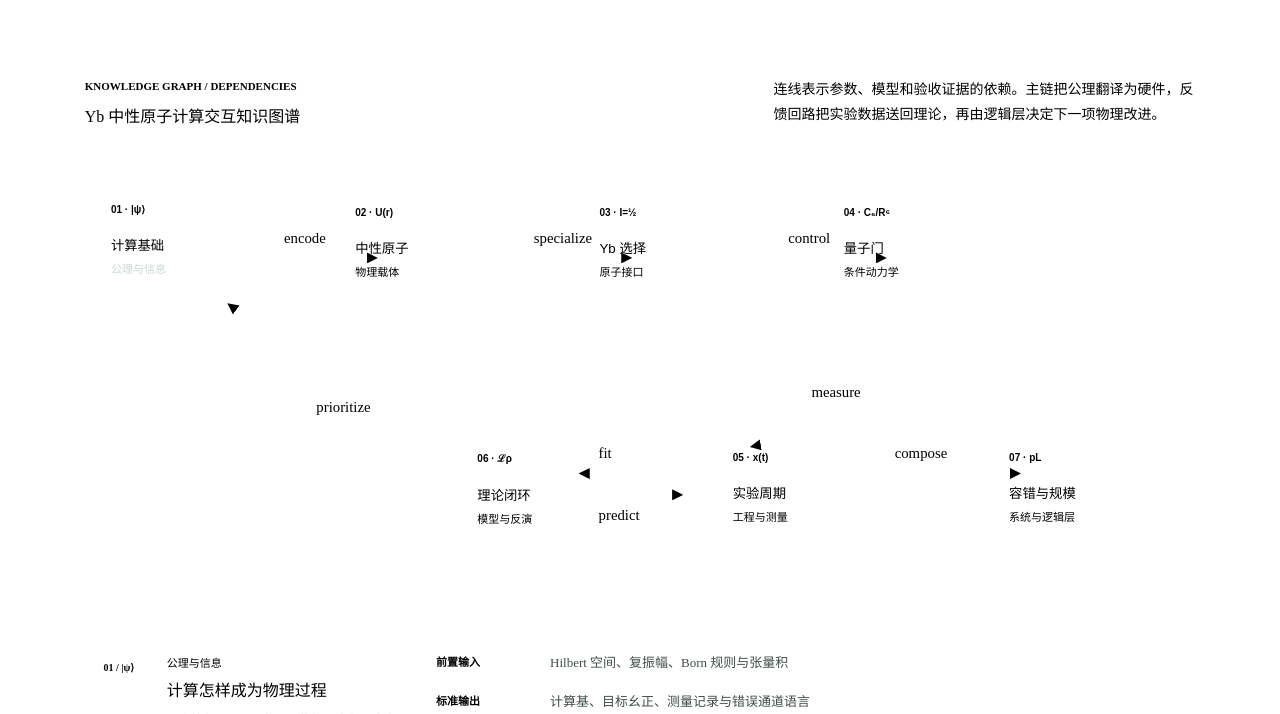
it: exposes chapter dependencies, outputs and the theory-experiment feedback loop
Expected: the heading "Yb 中性原子计算交互知识图谱" is shown, top-left (85, 108), bottom-right (300, 125)
Click the button with aria-label "节点 06 理论闭环" at (557, 488), box top-left (462, 436), bottom-right (652, 541)
(page scrolled)
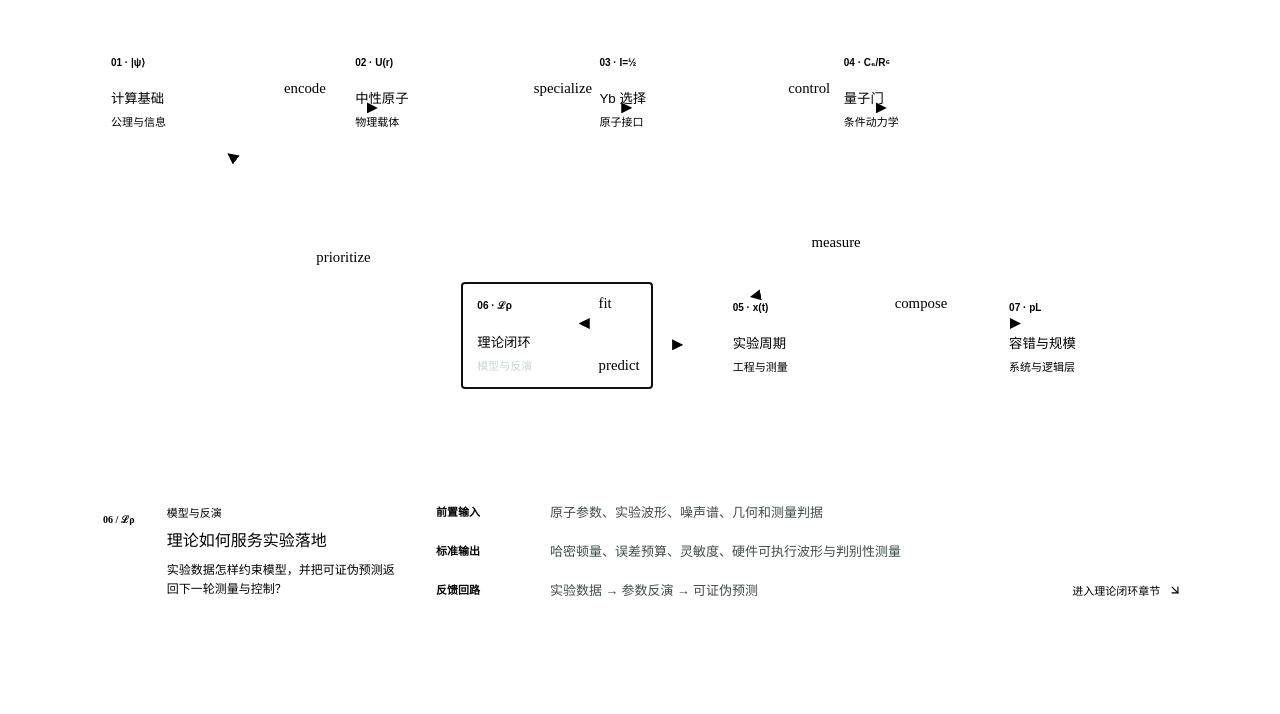
Expected: the heading "理论如何服务实验落地" is shown, top-left (167, 532), bottom-right (327, 549)
Expected: the text "实验数据 → 参数反演 → 可证伪预测" is shown, top-left (550, 583), bottom-right (758, 598)
